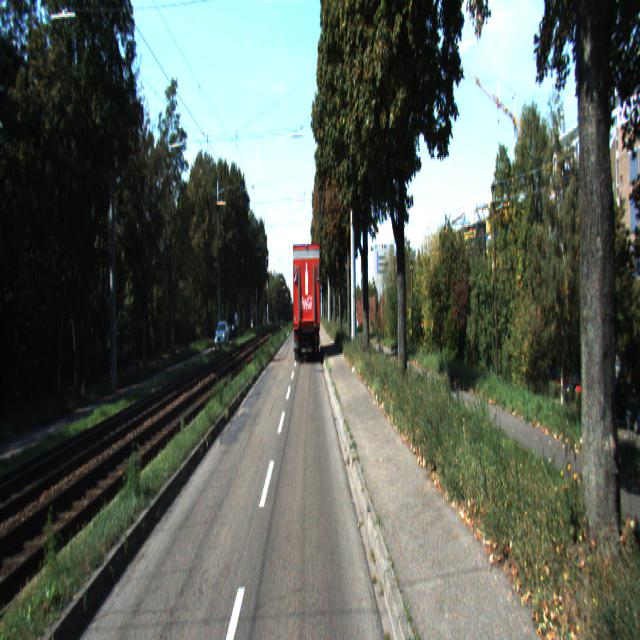Car: (290, 236, 322, 360), (214, 320, 230, 352)
